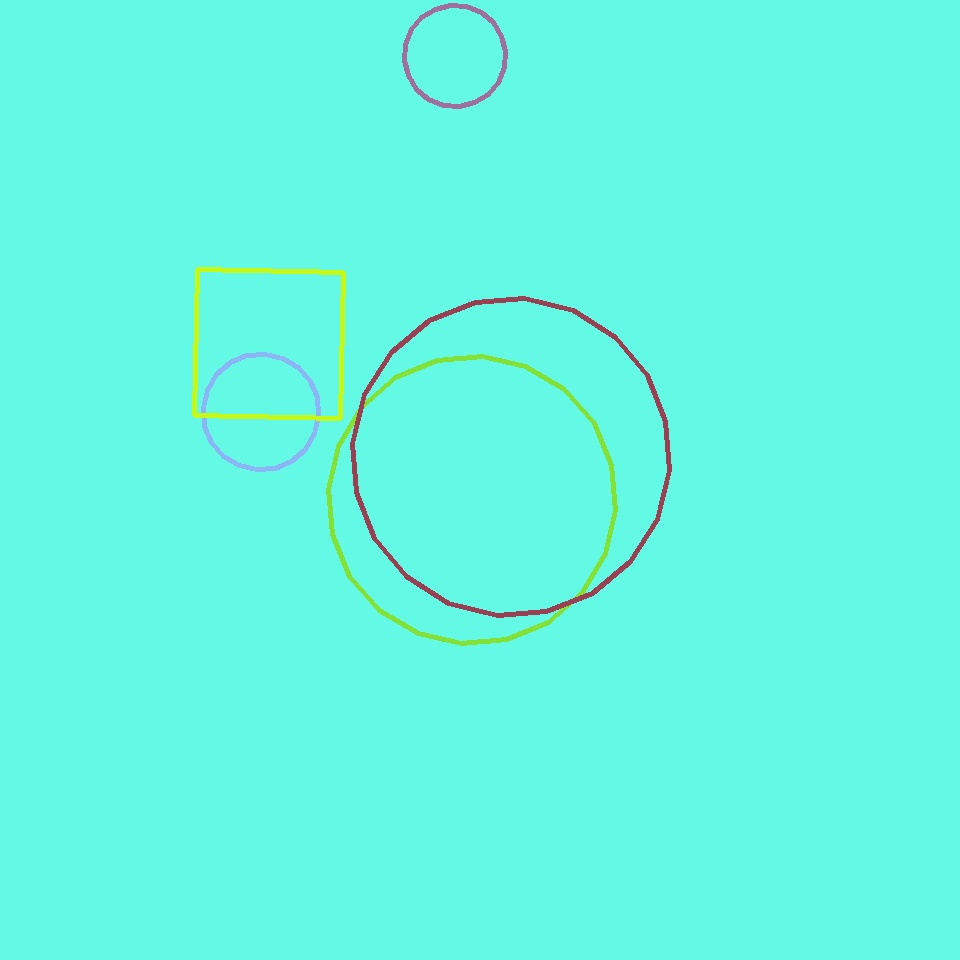square: (194, 270, 344, 418)
triangle: (353, 298, 670, 616), (328, 357, 616, 644), (203, 354, 318, 469), (404, 6, 505, 106)
